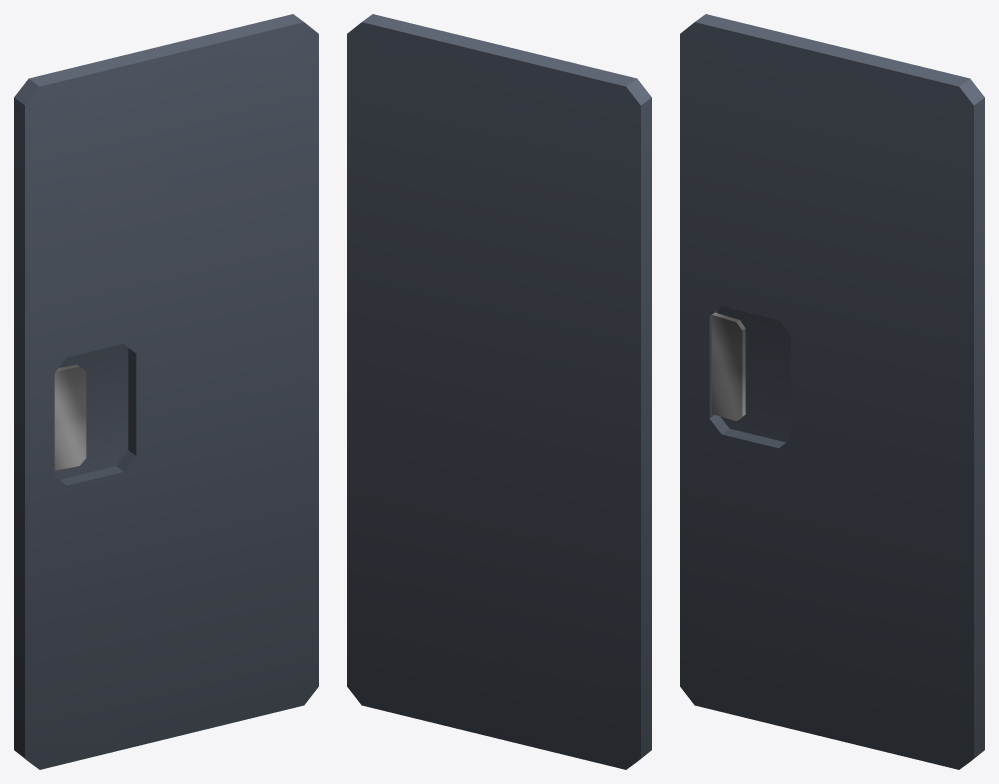
The model's file is Door_Locker.fbx.
The picture shows the model from 3 angles, left to right: view 1: azimuth 30°, elevation 25°; view 2: azimuth 150°, elevation 25°; view 3: azimuth 330°, elevation 25°; orthographic projection.
Visible parts, largest first — view 1: Door_Locker; view 2: Door_Locker; view 3: Door_Locker.
Part boxes in pixels (left/top/right/bottom): Door_Locker: left=14, top=14, right=318, bottom=769; Door_Locker: left=347, top=14, right=651, bottom=769; Door_Locker: left=680, top=14, right=984, bottom=769.
Bounding box in the file's own units: 36 × 80 × 2.36.
